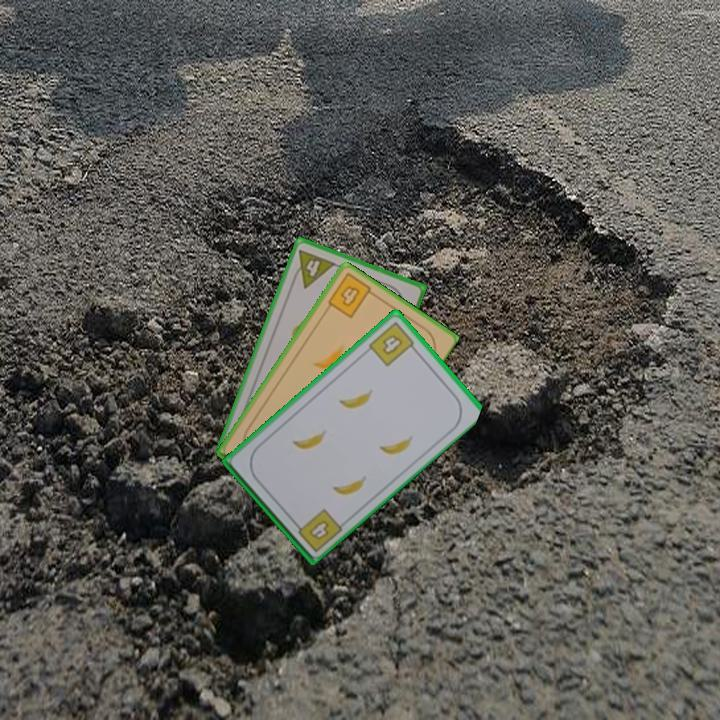4b: (324, 270, 379, 321), (365, 318, 420, 369), (290, 507, 345, 555)
4p: (288, 246, 338, 291)
